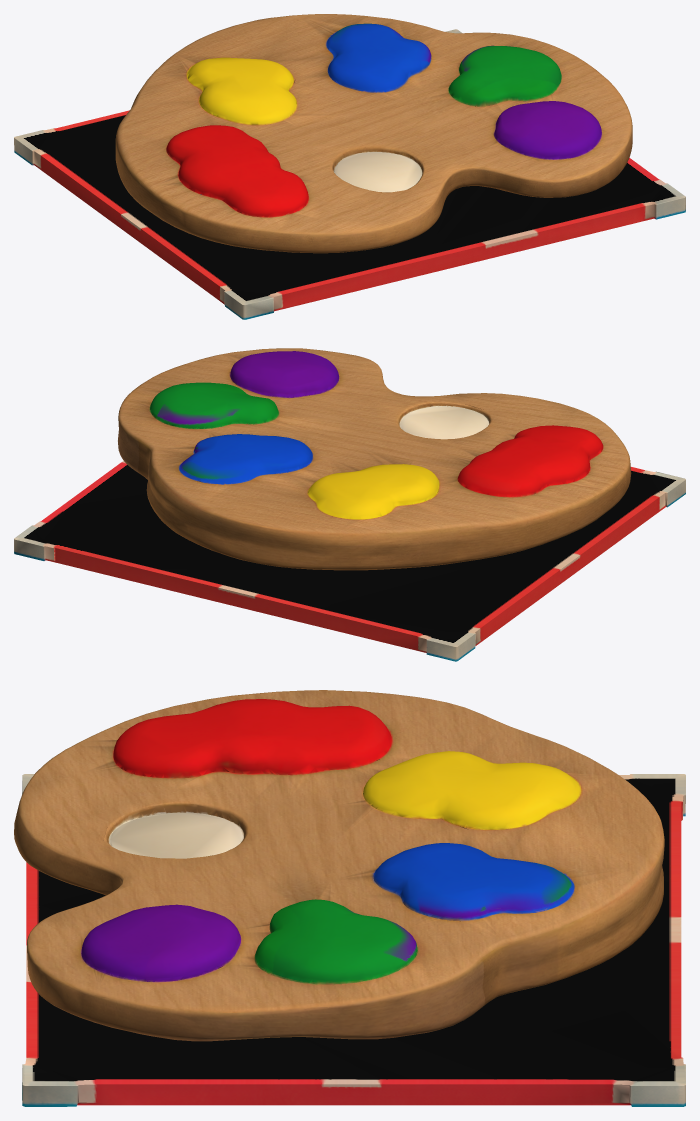
File: 7-roof.fbx
3 views of the same model, one above another, from view 1: azimuth 30°, elevation 25°; view 2: azimuth 150°, elevation 25°; view 3: azimuth 270°, elevation 25° (orthographic). The views are drawn at different scales.
Visible parts, largest first — view 1: roof; view 2: roof; view 3: roof.
Boxes of the visible parts, x1,y1,x2,y2 form: roof: [14, 14, 685, 319]; roof: [14, 348, 685, 661]; roof: [14, 690, 685, 1106].
Size of the model in its own units: 9171 by 1723 by 8100.
Materials: 1 (1 with a texture image).
